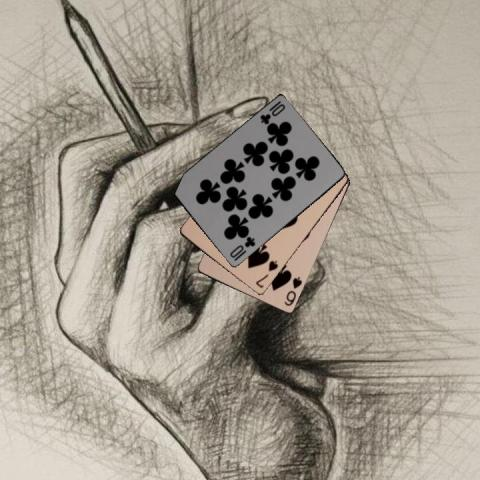10c: (227, 234, 256, 263), (257, 98, 287, 126)
6s: (282, 274, 304, 307)
7s: (253, 258, 279, 290)
